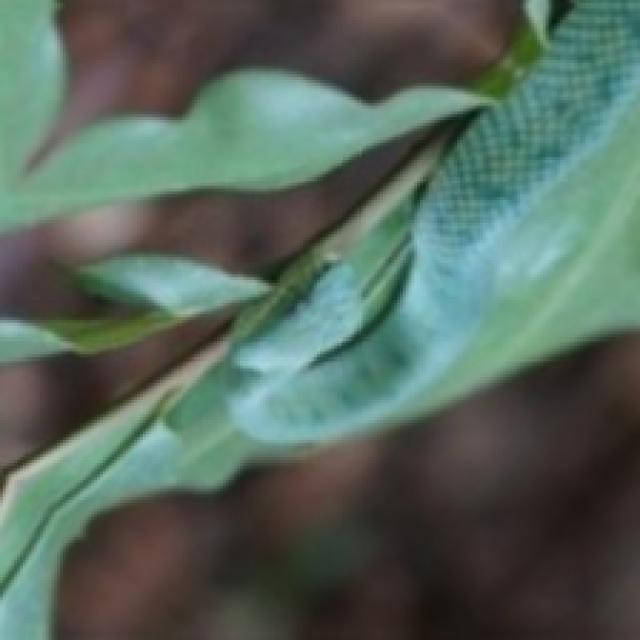north ph temple pitviper: (0, 0, 637, 637), (57, 520, 363, 637), (414, 554, 611, 637)
